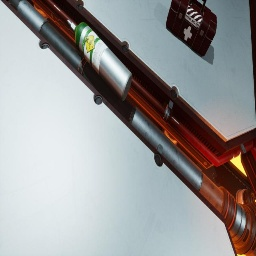0: (67, 20, 132, 101)
FirstAidBox ,: (166, 0, 217, 56)
